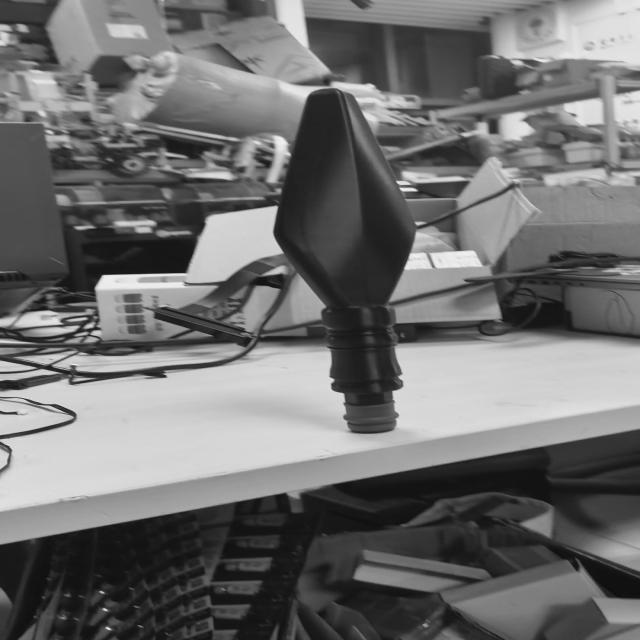base: (338, 399, 402, 439)
